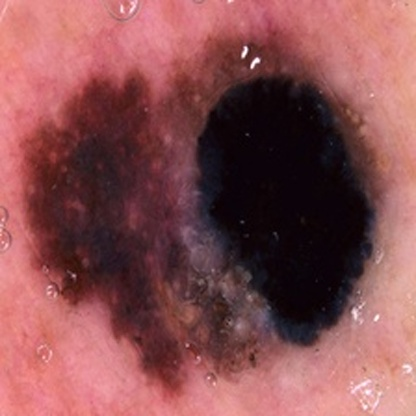malignant: (184, 86, 366, 320), (45, 119, 229, 319)
